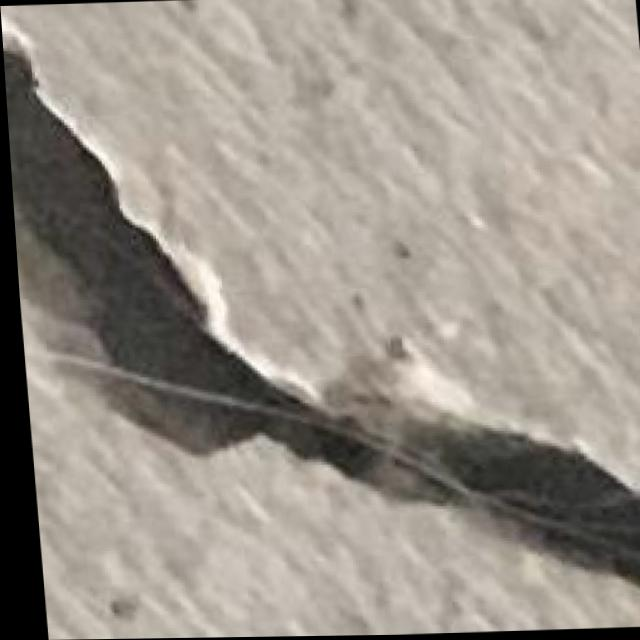Crack: (1, 9, 640, 631)
